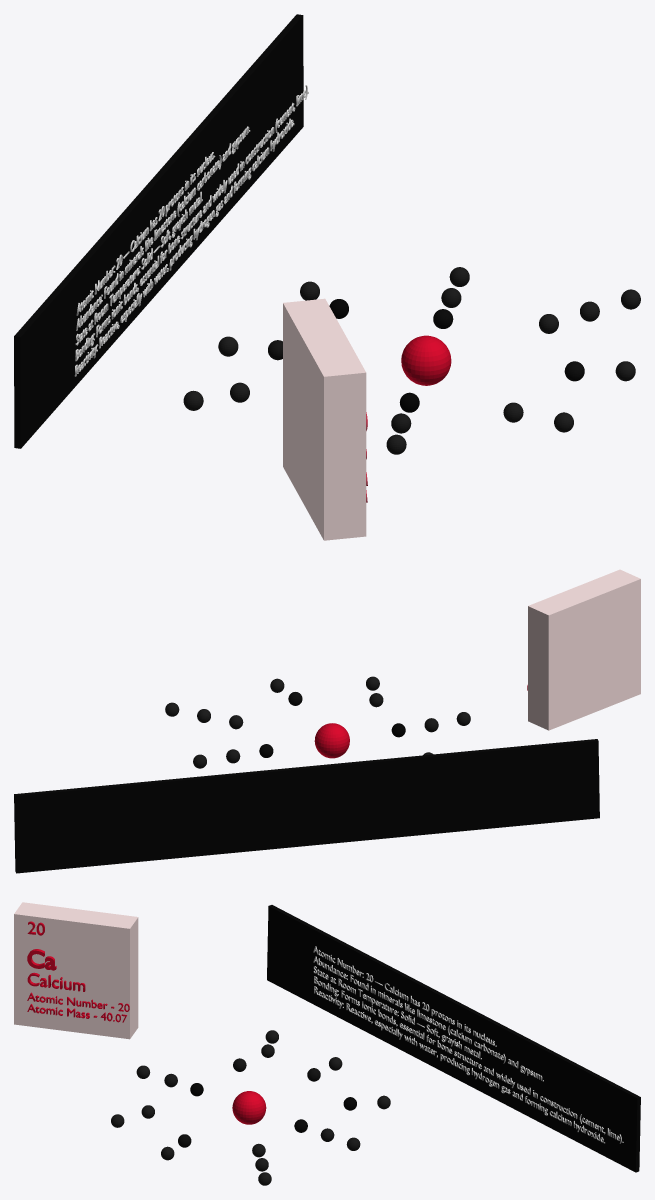
Rendered from Calcium final .fbx.
3 views of the same model, one above another, from view 1: azimuth 30°, elevation 25°; view 2: azimuth 150°, elevation 25°; view 3: azimuth 270°, elevation 25° (orthographic). The views are drawn at different scales.
Parts seen in each view (by area): view 1: Cube.001, Cube, Text.003, Sphere.012; view 2: Cube.001, Cube, Sphere.012; view 3: Cube.001, Cube, Text.003, Text.002, Sphere.012, Text.001.
Part boxes in pixels (x1,y1,x2,y2): Cube.001: [14, 14, 303, 448]; Cube: [283, 298, 366, 540]; Text.003: [74, 85, 308, 376]; Sphere.012: [401, 335, 451, 385]; Cube.001: [14, 739, 599, 873]; Cube: [528, 569, 640, 730]; Sphere.012: [314, 723, 349, 758]; Cube.001: [267, 905, 640, 1172]; Cube: [14, 902, 138, 1039]; Text.003: [313, 946, 623, 1143]; Text.002: [27, 992, 129, 1022]; Sphere.012: [232, 1091, 266, 1124]; Text.001: [27, 921, 85, 991].
Size of the model in its own units: 1427 by 430 by 1851.
